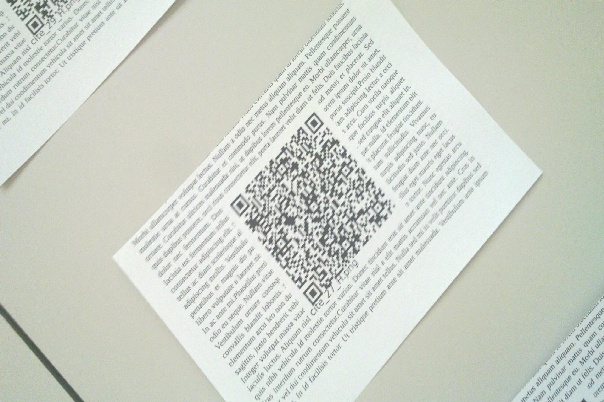code: (230, 112, 396, 306)
